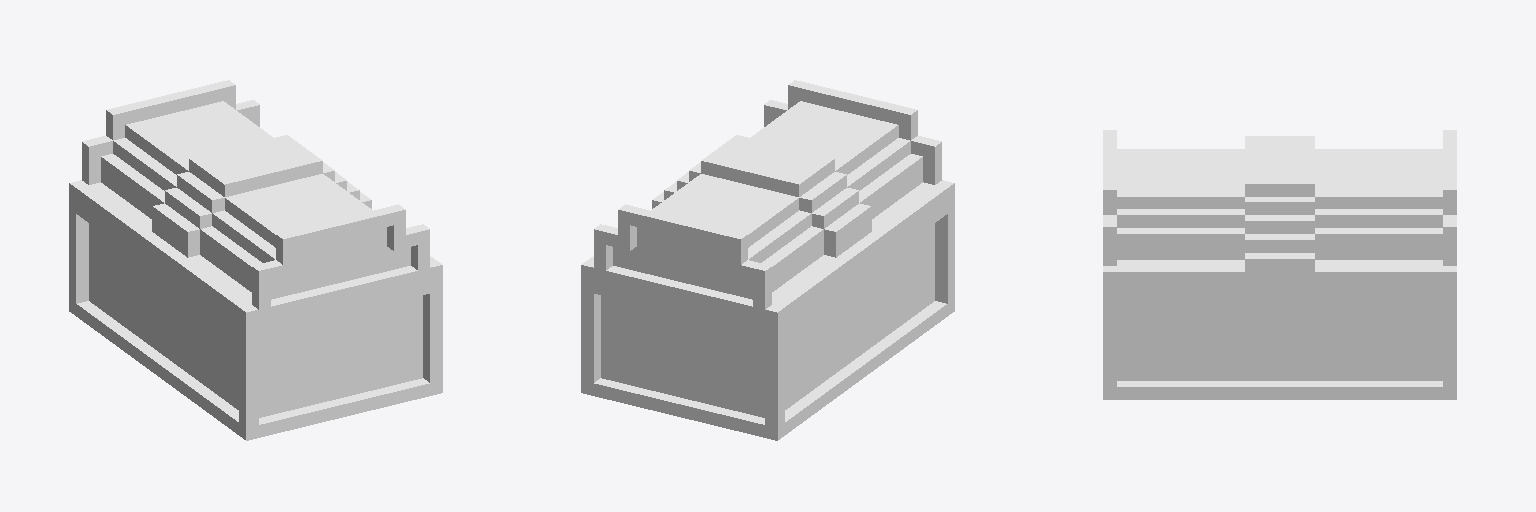
Rendered from chest_gold.obj.
The picture shows the model from 3 angles: view 1: azimuth 30°, elevation 25°; view 2: azimuth 150°, elevation 25°; view 3: azimuth 270°, elevation 25°; orthographic projection.
Visible parts, largest first — view 1: chest_gold; view 2: chest_gold; view 3: chest_gold.
Boxes of the visible parts, <box> form: chest_gold: <box>69,80,442,440</box>; chest_gold: <box>581,80,954,440</box>; chest_gold: <box>1103,130,1456,399</box>.
Size of the model in its own units: 16 by 15 by 25.